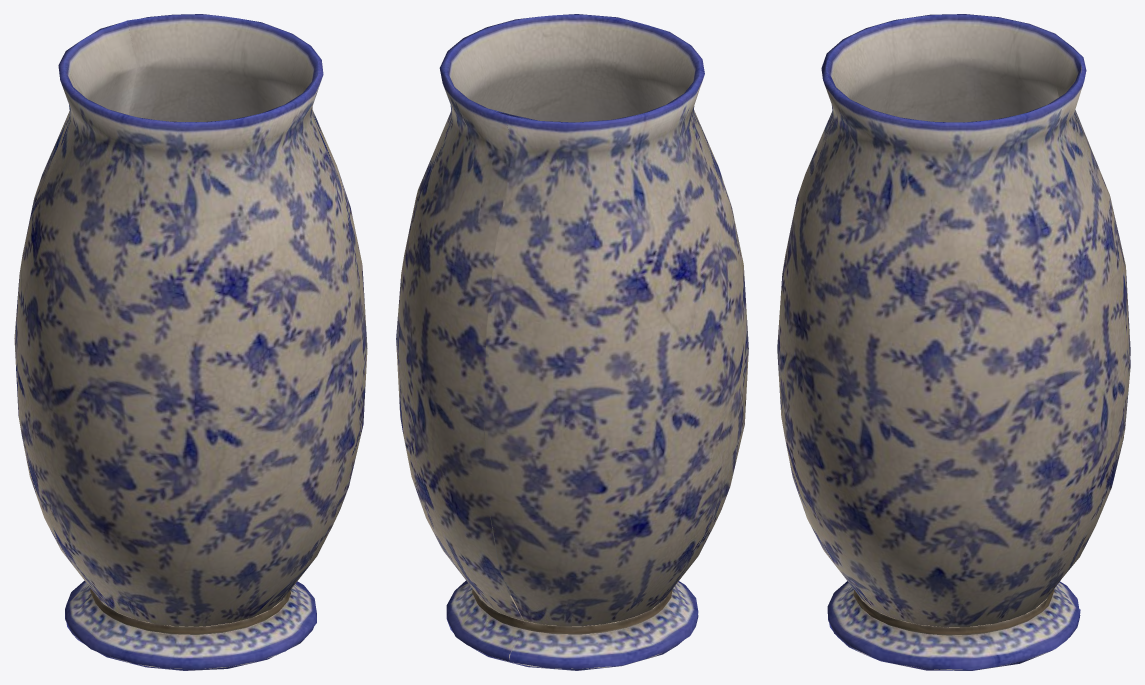
Rendered from antique_ceramic_vase_01.glb.
3 views of the same model, side by side, from view 1: azimuth 30°, elevation 25°; view 2: azimuth 150°, elevation 25°; view 3: azimuth 270°, elevation 25° (orthographic).
Parts seen in each view (by area): view 1: lod0; view 2: lod0; view 3: lod0.
Part boxes in pixels (bbox=[...]): lod0: bbox=[14, 14, 367, 670]; lod0: bbox=[396, 14, 748, 670]; lod0: bbox=[777, 14, 1130, 670].
Size of what is drawn, in the model's own units: 0.2554 by 0.4408 by 0.2556.
Materials: 1 (1 with a texture image).
